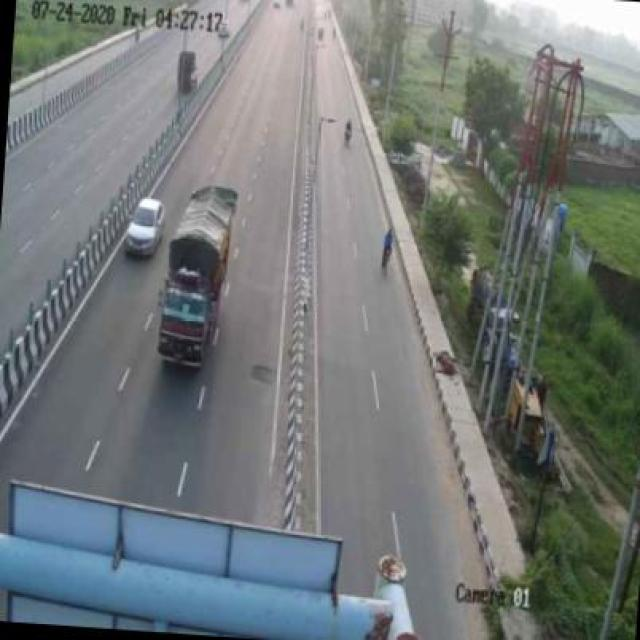car: (126, 191, 169, 261)
